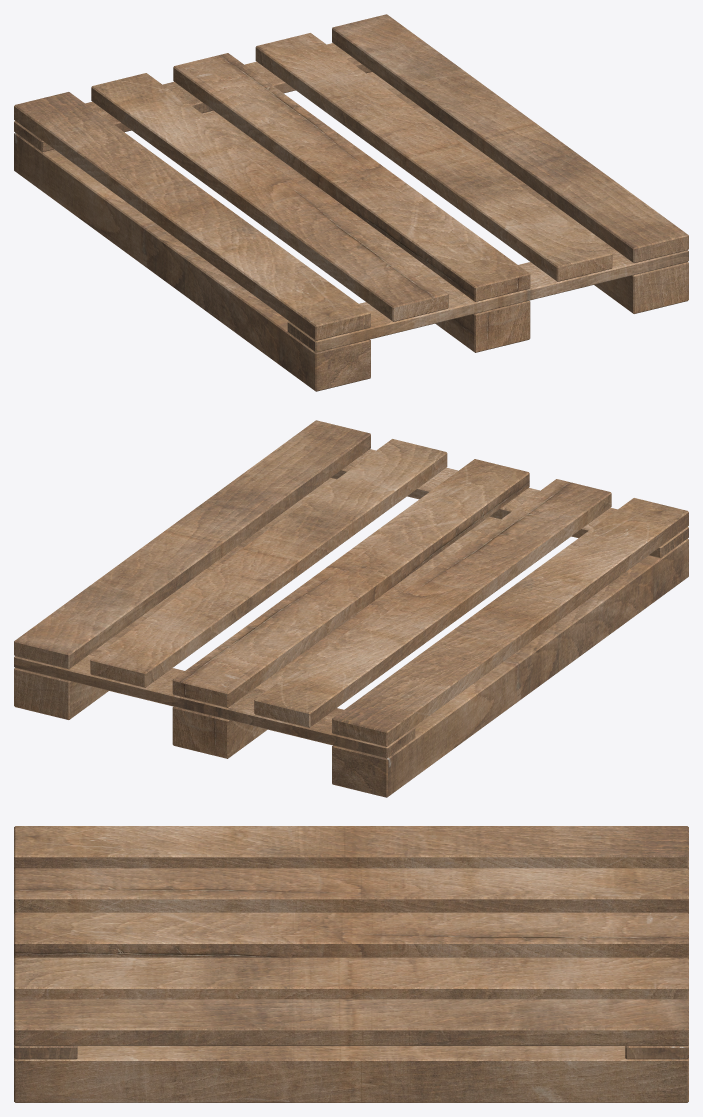
The model's file is pallet.fbx.
The picture shows the model from 3 angles, top to bottom: view 1: azimuth 30°, elevation 25°; view 2: azimuth 150°, elevation 25°; view 3: azimuth 270°, elevation 25°; orthographic projection. The views are drawn at different scales.
Visible parts, largest first — view 1: pallet; view 2: pallet; view 3: pallet.
Boxes of the visible parts, x1,y1,x2,y2 form: pallet: [14, 14, 688, 391]; pallet: [14, 420, 688, 797]; pallet: [14, 826, 688, 1102].
Bounding box in the file's own units: 100 × 17 × 140.
